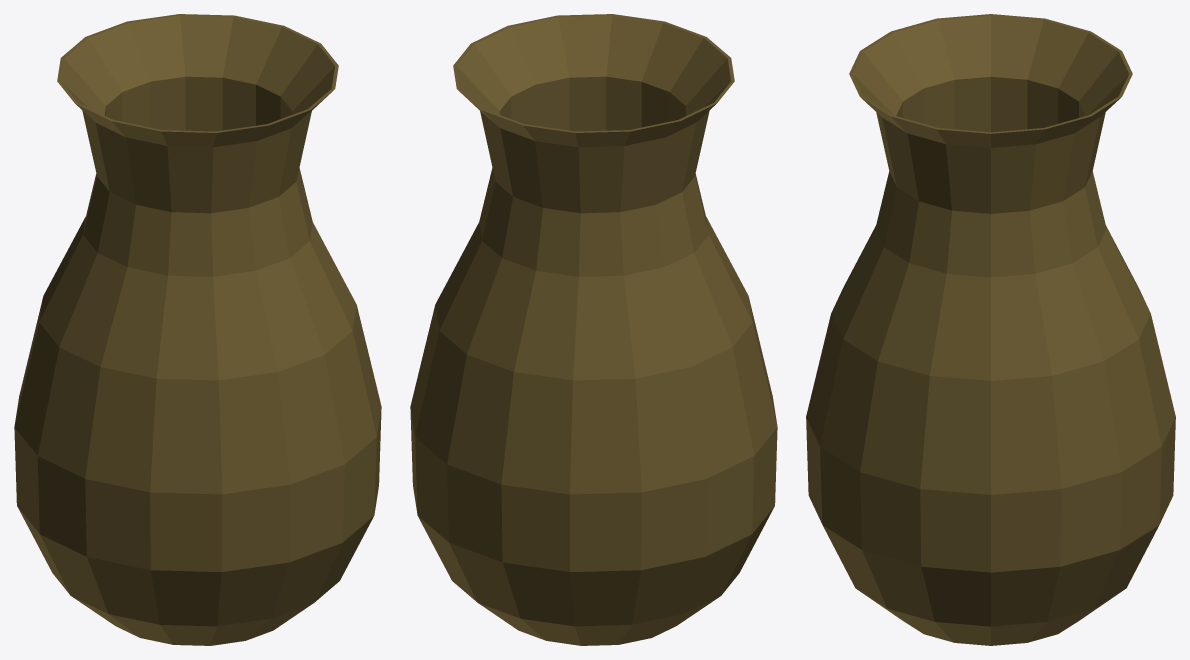
File: vaas2.fbx
3 renders of one model, left to right at view 1: azimuth 30°, elevation 25°; view 2: azimuth 150°, elevation 25°; view 3: azimuth 270°, elevation 25°, orthographic.
Visible parts, largest first — view 1: Vaas2; view 2: Vaas2; view 3: Vaas2.
Boxes of the visible parts, box(x1,y1,x2,y2) form: Vaas2: box(14, 14, 381, 645); Vaas2: box(410, 14, 777, 645); Vaas2: box(806, 14, 1175, 645).
Size of the model in its own units: 0.26 by 0.4126 by 0.26.
